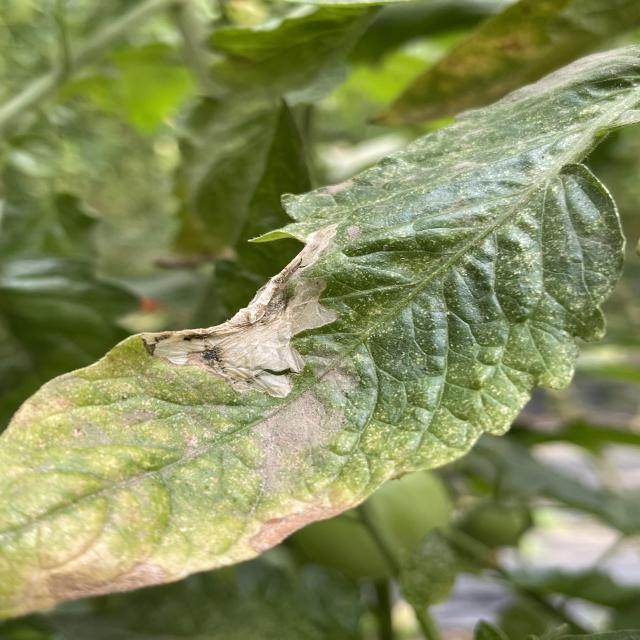Tuta absoluta: (139, 221, 398, 445)
